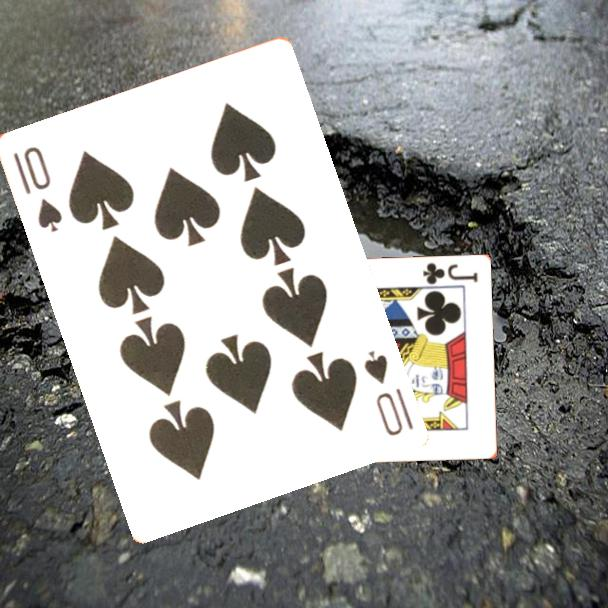c11: (419, 260, 480, 288)
s10: (9, 142, 65, 235), (360, 346, 416, 439)
